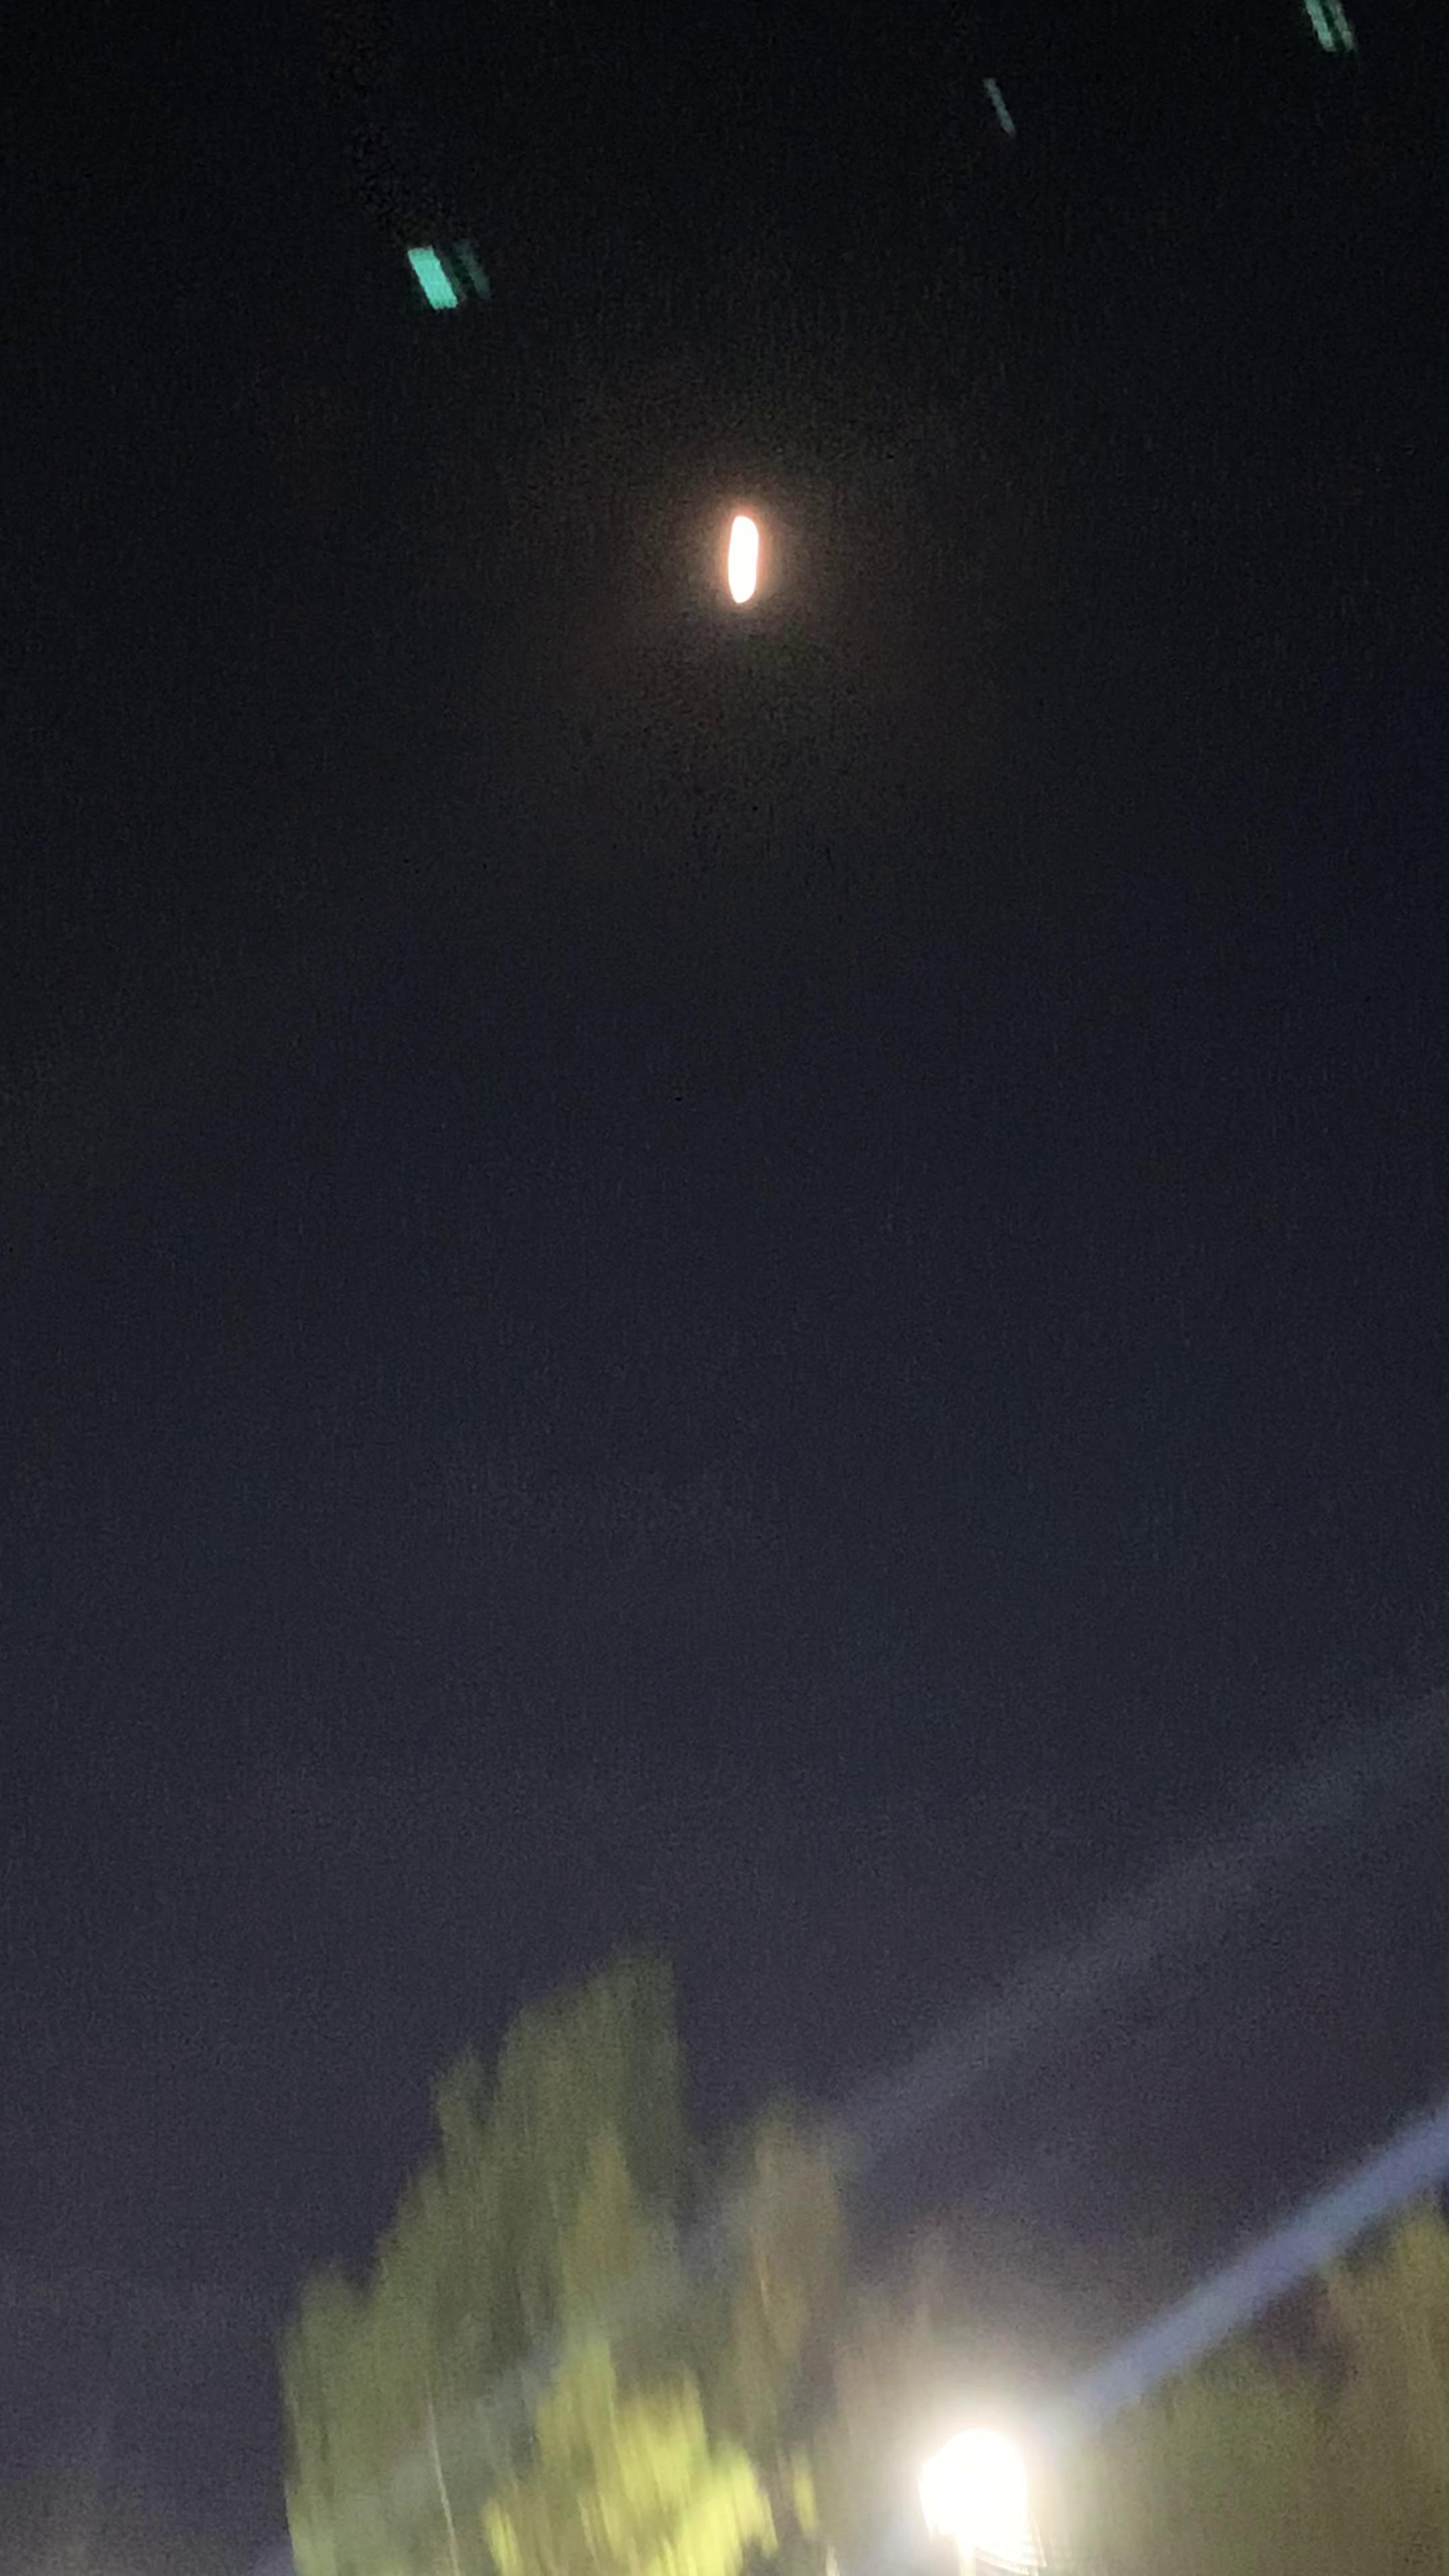moon: (672, 479, 823, 623)
